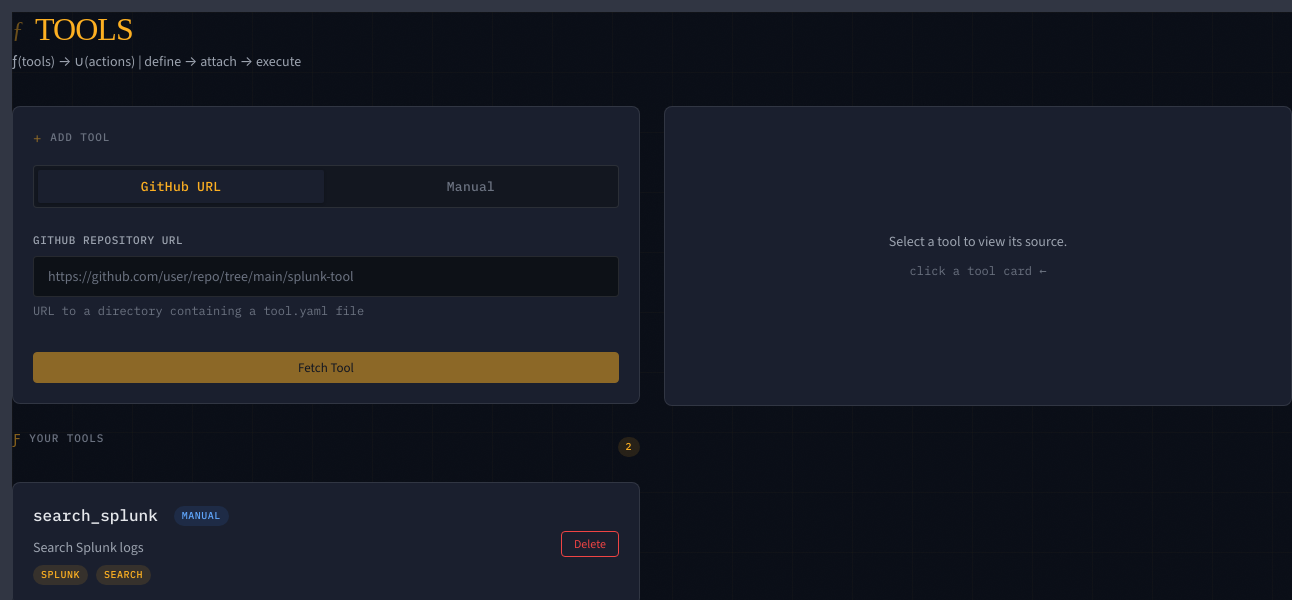
Test: Tools page › shows GitHub URL input by default and switches to Manual tab
The width and height of the screenshot is (1292, 600).
Expected: the heading "search_splunk" is shown, [33, 503, 158, 529]
Expected: the field labelled "GitHub Repository URL" is shown, [33, 256, 619, 297]
Switch to Manual tab
Click the button "Manual".
click(471, 186)  # box [328, 170, 614, 203]
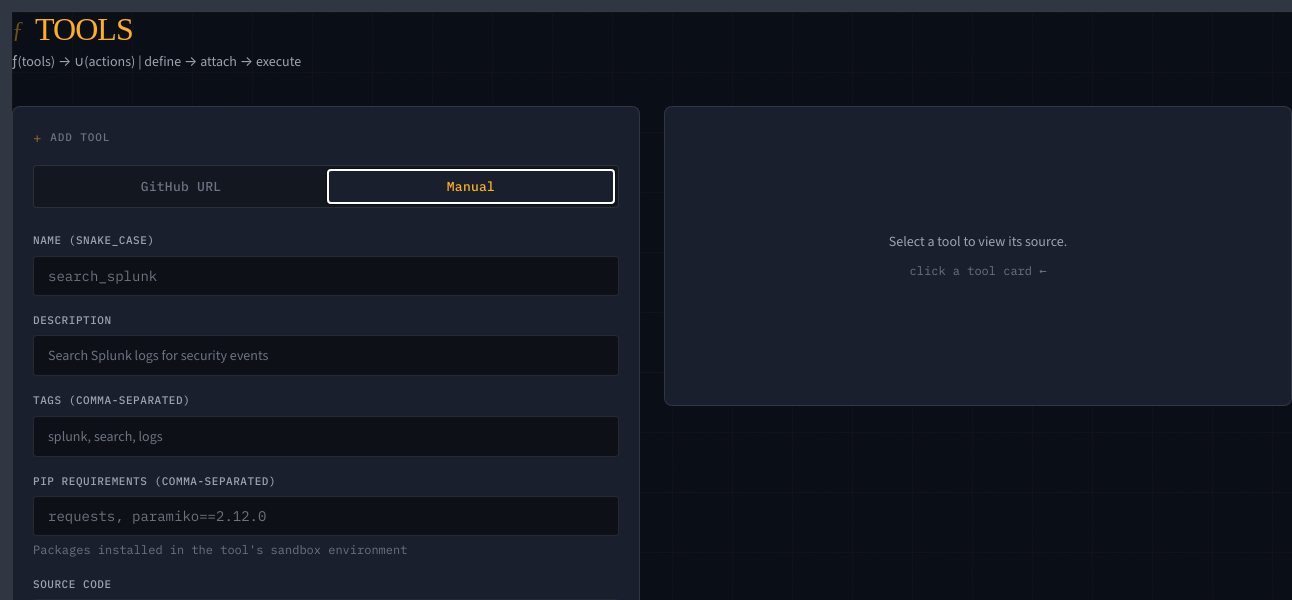
Now the field labelled "Name (snake_case)" is shown, box [33, 256, 619, 296]
